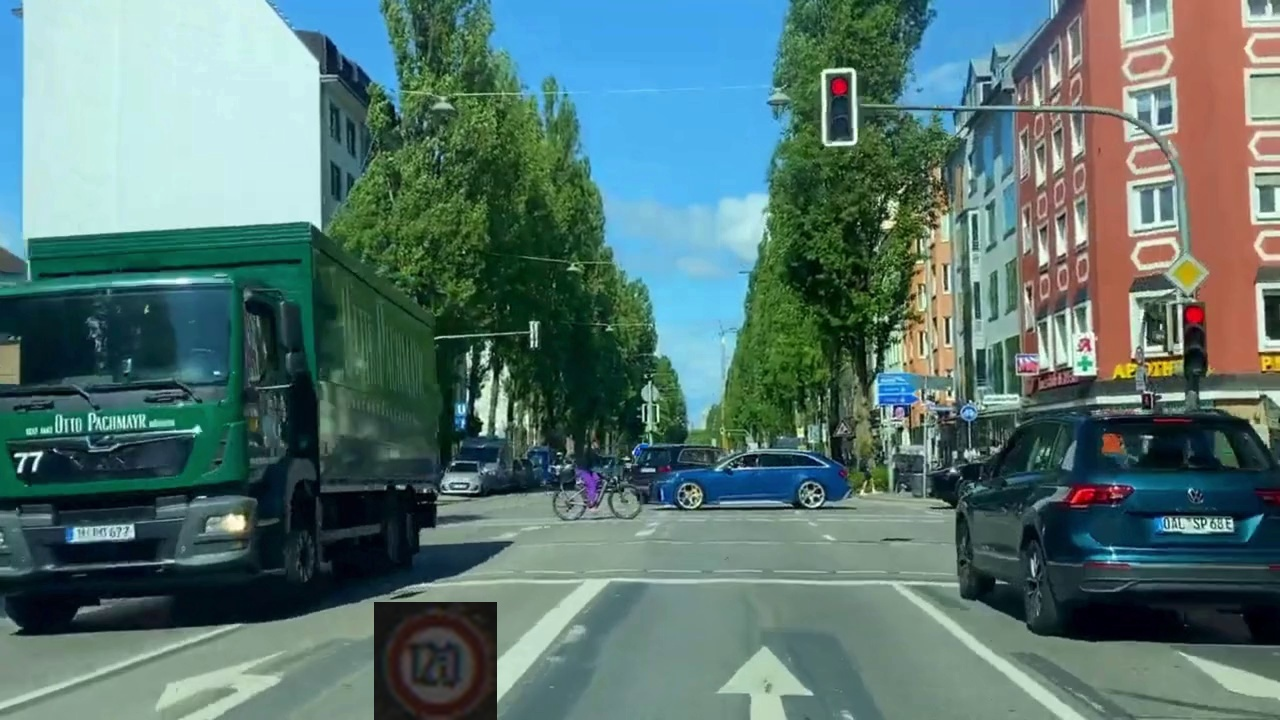Speed 120: (374, 602, 497, 720)
